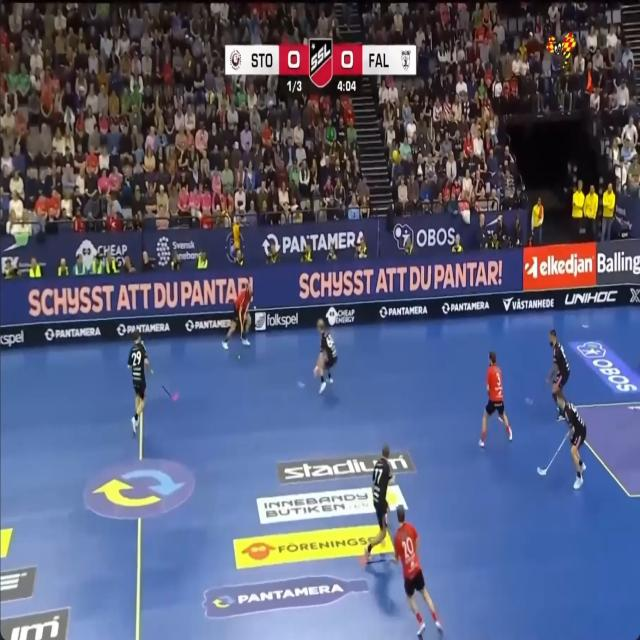Balls: (238, 354, 240, 360)
player: (393, 504, 442, 636), (364, 444, 392, 561), (479, 352, 512, 447), (557, 398, 586, 488), (128, 331, 152, 436), (222, 284, 252, 349), (547, 329, 570, 404), (314, 319, 337, 393), (557, 405, 564, 420)
stick: (537, 436, 566, 474), (162, 385, 178, 400), (239, 307, 247, 337), (366, 556, 392, 564), (161, 385, 171, 395), (297, 380, 305, 387)
